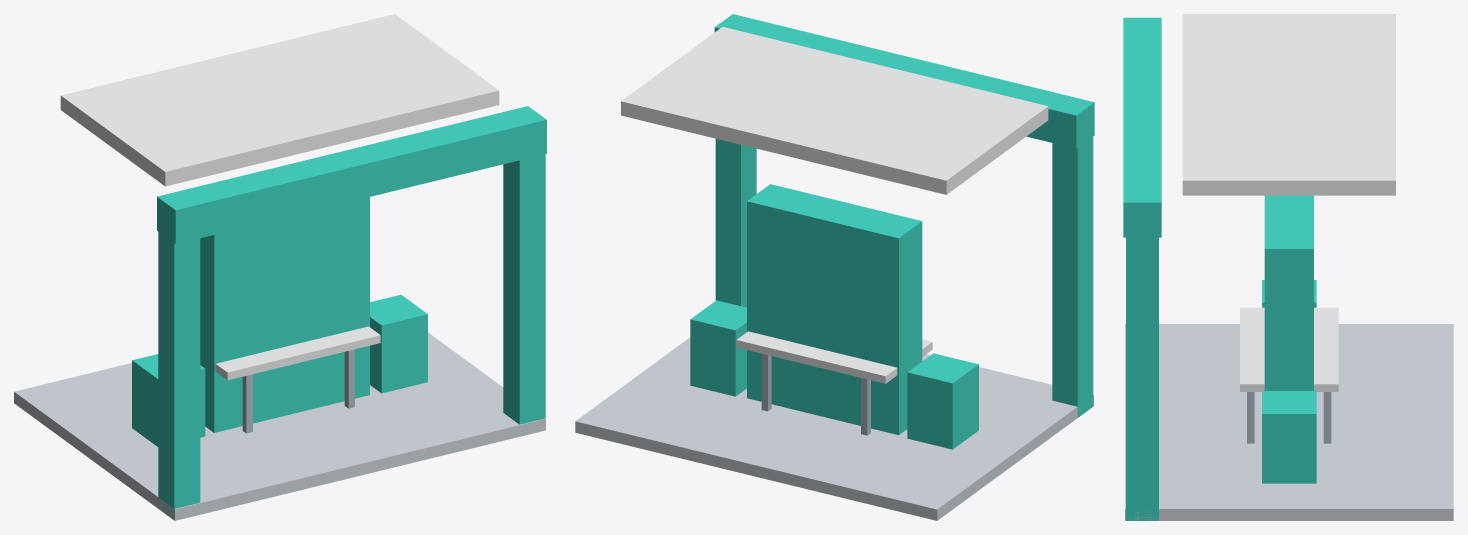
3 views of the same model, side by side, from view 1: azimuth 30°, elevation 25°; view 2: azimuth 150°, elevation 25°; view 3: azimuth 270°, elevation 25° (orthographic). The views are drawn at different scales.
Visible parts, largest first — view 1: Exhibition Booth Concept; view 2: Exhibition Booth Concept; view 3: Exhibition Booth Concept.
Boxes of the visible parts, x1,y1,x2,y2 form: Exhibition Booth Concept: (14,14,546,520); Exhibition Booth Concept: (575,14,1094,520); Exhibition Booth Concept: (1123,14,1453,520).
Bounding box in the file's own units: 4 × 3.34 × 3.01.
